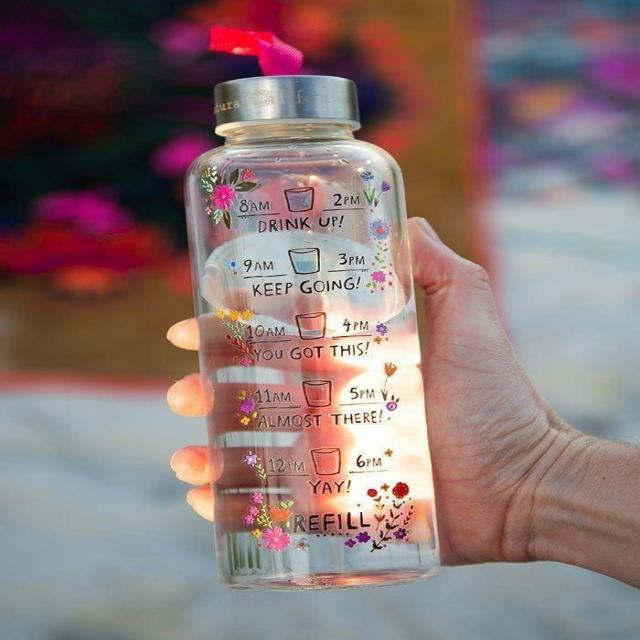gym bottle: (185, 75, 447, 588)
